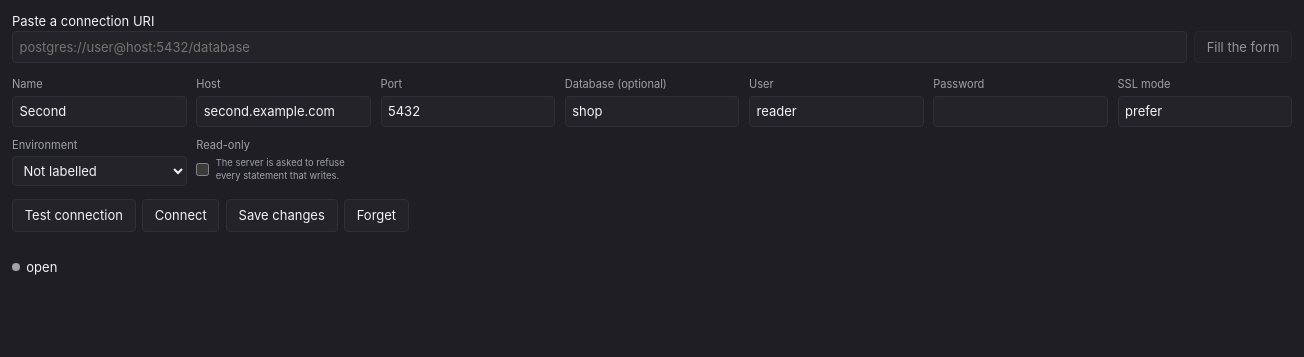
Test: saving a connection › leaves a connection this form did not open alone
Click the button "Save changes". click: (282, 216)
box: 226,199 -> 338,232
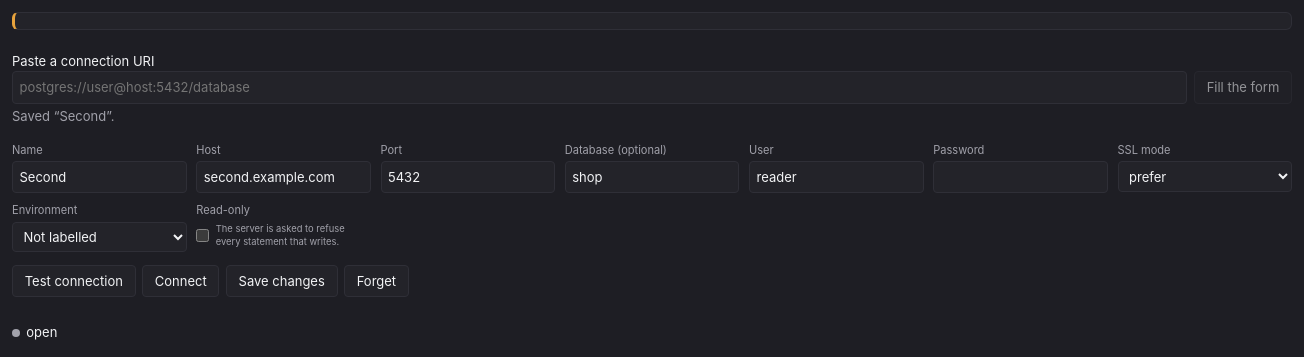
Check: the text "Saved “Second”." is shown, box 12,108 -> 114,124
